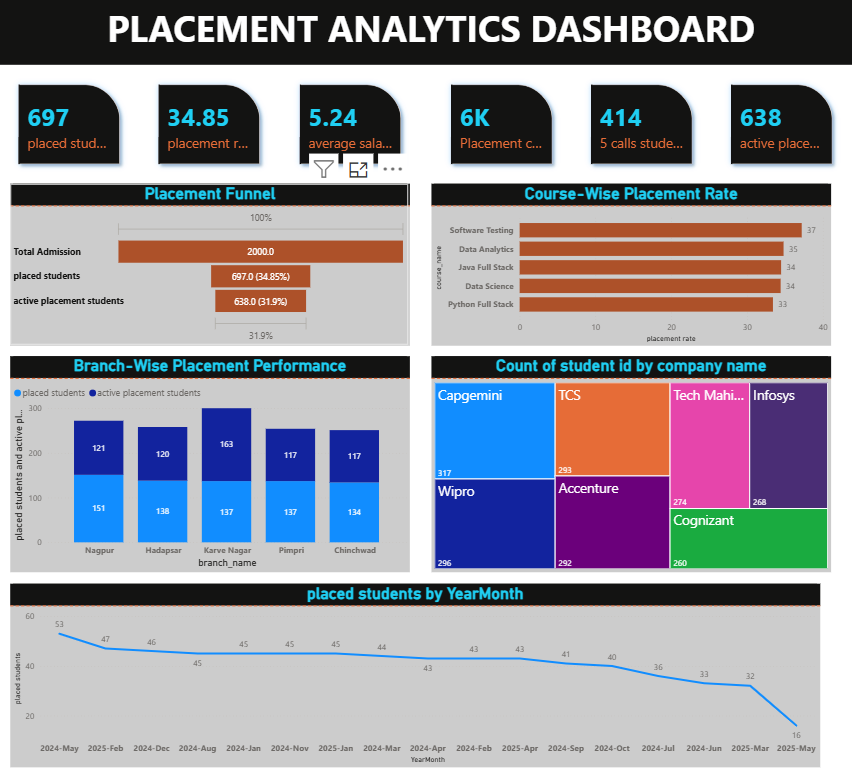

Layout of this report page (visuals, bound fields, positions):
{"tool":"powerbi","page":{"name":"Placement Analytics","canvas":[1280,1200],"ordinal":2},"visuals":[{"type":"textbox","box":[16,0,1264,176],"z":0},{"type":"textbox","box":[0,0,1280,96],"z":1000},{"type":"cardVisual","fields":{"Data":["Placement Measures.placed students"]},"box":[0,96,208,176],"z":2000},{"type":"cardVisual","fields":{"Data":["Placement Measures.placement rate"]},"box":[208,96,208,176],"z":3000},{"type":"cardVisual","fields":{"Data":["Average Metrics.average salary package"]},"box":[416,96,208,176],"z":4000},{"type":"cardVisual","fields":{"Data":["Placement Measures.Placement calls given"]},"box":[640,96,208,176],"z":5000},{"type":"cardVisual","fields":{"Data":["Placement Measures.5 calls students"]},"box":[848,96,208,176],"z":6000},{"type":"cardVisual","fields":{"Data":["Placement Measures.active placement students"]},"box":[1056,96,208,176],"z":7000},{"type":"funnel","title":"Placement Funnel","fields":{"Y":["Student Measures.Total Admission","Placement Measures.placed students","Placement Measures.active placement students"]},"box":[16,272,592,240],"z":8000},{"type":"clusteredBarChart","title":"Course-Wise Placement Rate","fields":{"Category":["Courses.course_name"],"Y":["Placement Measures.placement rate"]},"box":[640,272,592,240],"z":9000},{"type":"columnChart","title":"Branch-Wise Placement Performance","fields":{"Category":["Branches.branch_name"],"Y":["Placement Measures.placed students","Placement Measures.active placement students"]},"box":[16,528,592,320],"z":10000},{"type":"treemap","fields":{"Group":["Placements.company name"],"Values":["CountNonNull(Placements.student id)"]},"box":[640,528,592,320],"z":11000},{"type":"lineChart","fields":{"Category":["DateTable.YearMonth"],"Y":["Placement Measures.placed students"]},"box":[16,864,1200,272],"z":12000}]}

Visuals, with their boxes in screenshot pixels (x1, y1, x2, y2), scaled from the page's 1280x1200 canvas onto the 852x780 screenshot:
textbox: 11:0:851:114
textbox: 0:0:851:62
cardVisual - Placement Measures.placed students: 0:62:138:177
cardVisual - Placement Measures.placement rate: 138:62:277:177
cardVisual - Average Metrics.average salary package: 277:62:415:177
cardVisual - Placement Measures.Placement calls given: 426:62:564:177
cardVisual - Placement Measures.5 calls students: 564:62:703:177
cardVisual - Placement Measures.active placement students: 703:62:841:177
"Placement Funnel" funnel: 11:177:405:333
"Course-Wise Placement Rate" clusteredBarChart: 426:177:820:333
"Branch-Wise Placement Performance" columnChart: 11:343:405:551
treemap - Placements.company name x CountNonNull(Placements.student id): 426:343:820:551
lineChart - DateTable.YearMonth x Placement Measures.placed students: 11:562:809:738
